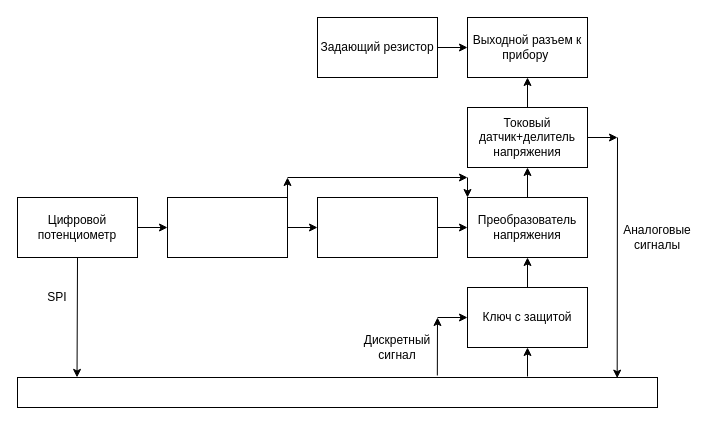
This 709x425 diagram has some shape labels left out. The shapes that lost their labels are listed below. From the top down, each one's box as (x1, y1, x2, y2) in pixels, then its label:
(166, 196, 288, 258): Делитель напряжения
(316, 196, 438, 258): Операционный усилитель
(16, 376, 658, 408): PLS-12-R
